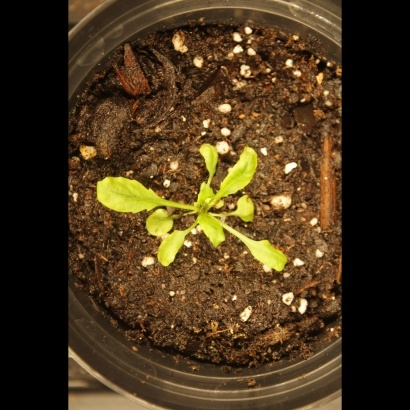leaf: (89, 171, 176, 213), (214, 142, 266, 203), (242, 226, 296, 282), (157, 225, 189, 275), (196, 211, 232, 254), (188, 137, 225, 172), (231, 190, 264, 227), (144, 207, 175, 242), (195, 181, 220, 214)
